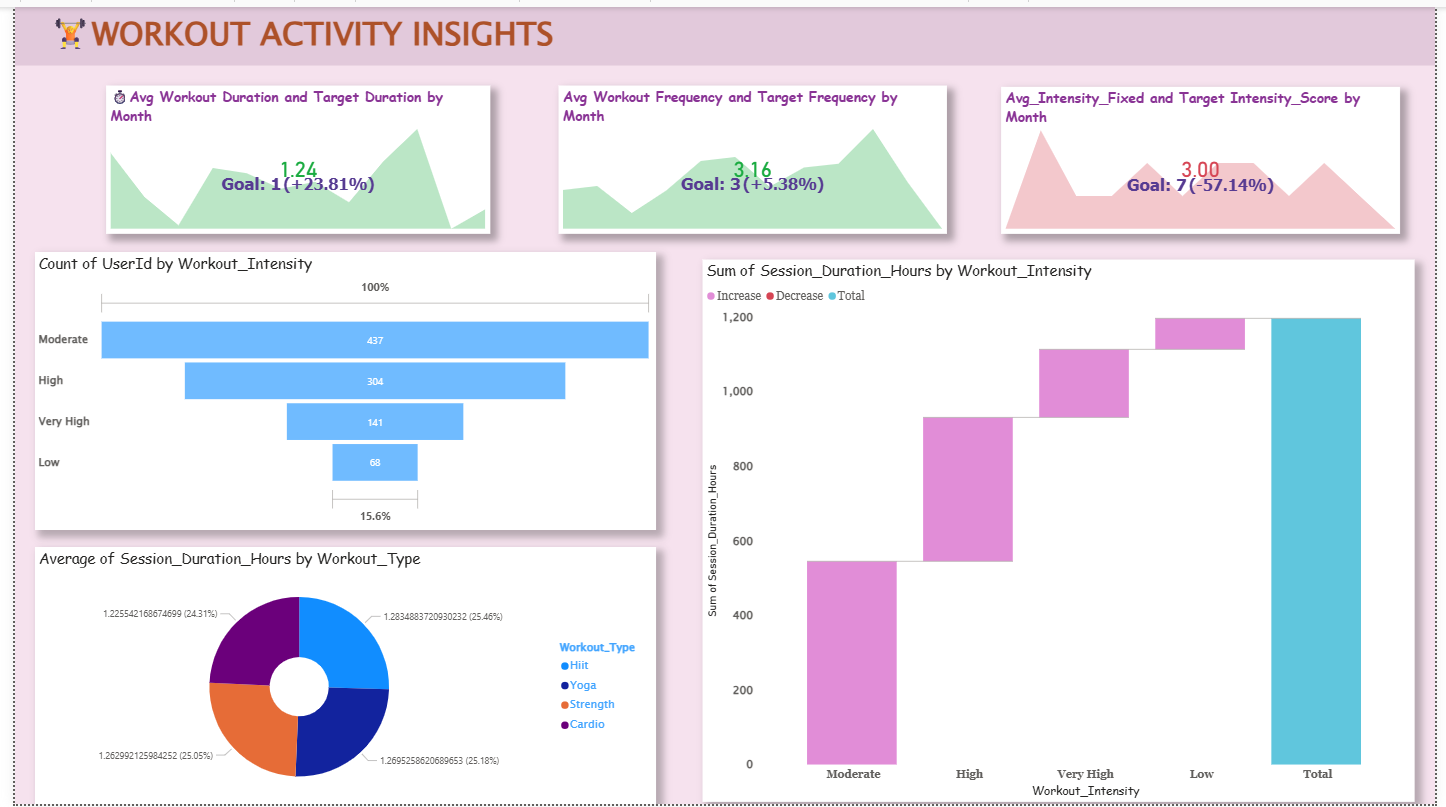

This screenshot's page, from the dashboard's own definition file:
{"tool":"powerbi","page":{"name":"Page 2","canvas":[1920,1080],"ordinal":1},"visuals":[{"type":"textbox","box":[0,0,1920.5,78.9],"z":0},{"type":"kpi","fields":{"Goal":["Workout_Activity.Target Duration"],"Indicator":["Workout_Activity.Avg Workout Duration"],"TrendLine":["User_Info.Date.Variation.Date Hierarchy.Month"]},"box":[122.9,106.4,519.1,199.9],"z":1000},{"type":"kpi","fields":{"Indicator":["Workout_Activity.Avg Workout Frequency"],"Goal":["Workout_Activity.Target Frequency"],"TrendLine":["User_Info.Date.Variation.Date Hierarchy.Month"]},"box":[735.5,106.4,524.6,199.9],"z":2000},{"type":"waterfallChart","fields":{"Category":["Workout_Activity.Workout_Intensity"],"Y":["Sum(Workout_Activity.Session_Duration_Hours)"]},"box":[930,341.2,963,733.7],"z":3000},{"type":"kpi","fields":{"Goal":["Workout_Activity.Target Intensity_Score"],"TrendLine":["User_Info.Date.Variation.Date Hierarchy.Month"],"Indicator":["Workout_Activity.Avg_Intensity_Fixed"]},"box":[1333.5,108.2,539.3,198.1],"z":4000},{"type":"donutChart","fields":{"Category":["Workout_Activity.Workout_Type"],"Y":["Avg(Workout_Activity.Session_Duration_Hours)"]},"box":[27.5,730,840.1,350.3],"z":5000},{"type":"funnel","fields":{"Category":["Workout_Activity.Workout_Intensity"],"Y":["CountNonNull(Workout_Activity.UserId)"]},"box":[27.5,332,840.1,376],"z":6000}]}

Visuals, with their boxes in screenshot pixels (x1, y1, x2, y2), scaled from the page's 1920x1080 canvas onto the 1446x807 screenshot:
textbox: bbox(0, 0, 1445, 59)
kpi - Workout_Activity.Target Duration x Workout_Activity.Avg Workout Duration: bbox(93, 80, 484, 229)
kpi - Workout_Activity.Avg Workout Frequency x Workout_Activity.Target Frequency: bbox(554, 80, 949, 229)
waterfallChart - Workout_Activity.Workout_Intensity x Sum(Workout_Activity.Session_Duration_Hours): bbox(700, 255, 1426, 803)
kpi - Workout_Activity.Target Intensity_Score x User_Info.Date.Variation.Date Hierarchy.Month: bbox(1004, 81, 1410, 229)
donutChart - Workout_Activity.Workout_Type x Avg(Workout_Activity.Session_Duration_Hours): bbox(21, 545, 653, 806)
funnel - Workout_Activity.Workout_Intensity x CountNonNull(Workout_Activity.UserId): bbox(21, 248, 653, 529)
